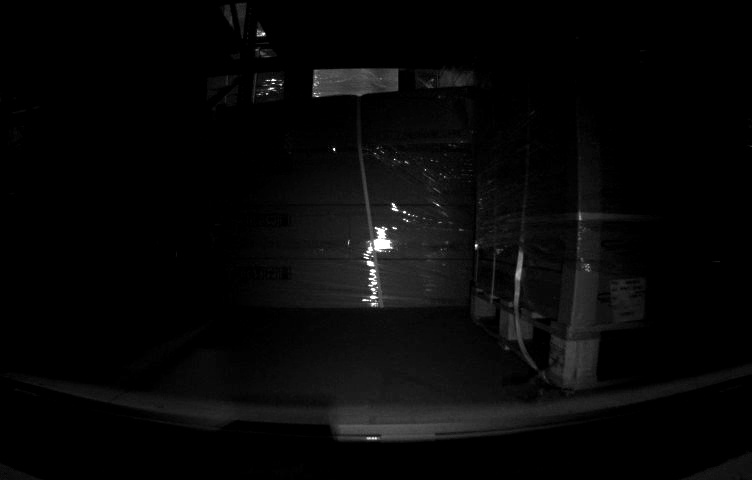True Barcode: (609, 277, 647, 319)
